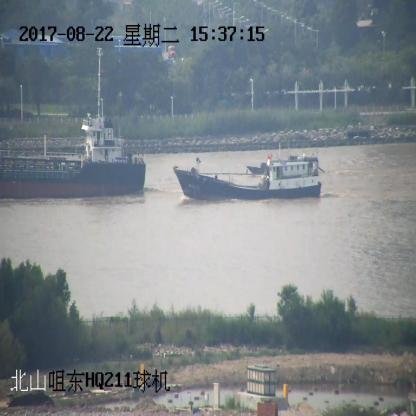Bulk Carrier: (0, 48, 148, 197)
